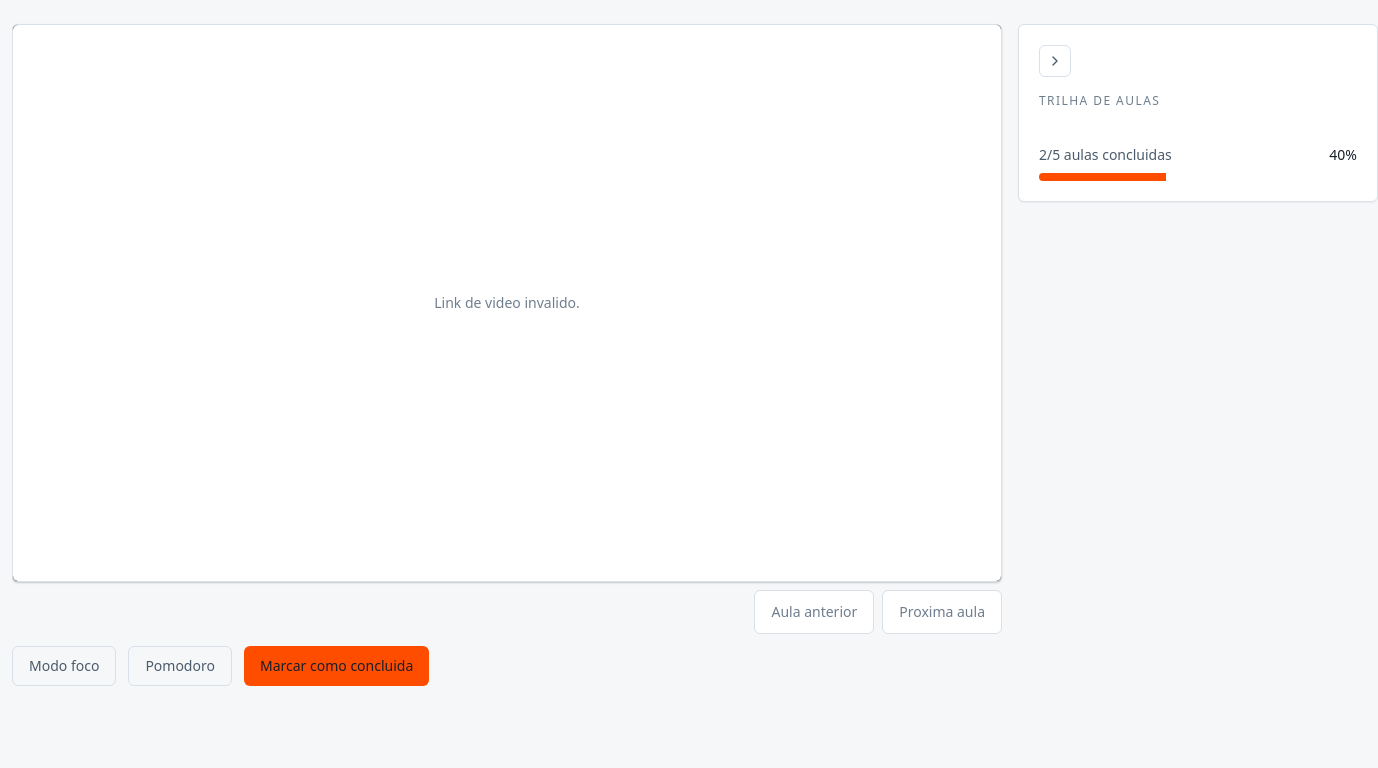
LessonCompletionPanel › marks the lesson as completed without navigating away and updates progress
The image size is (1378, 768).
Click the button "Marcar como concluida" at [337, 666], box [244,646,429,686]
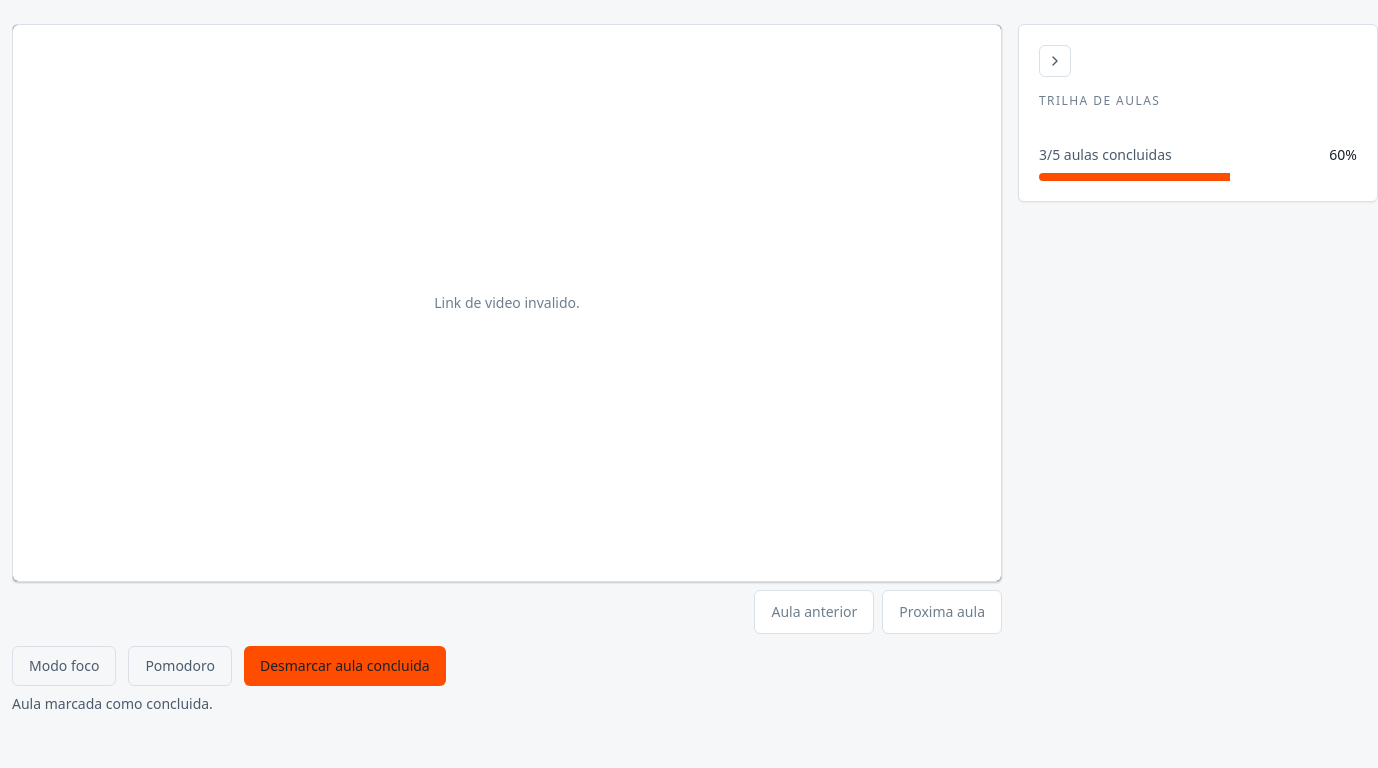
Check: the button "Desmarcar aula concluida" is shown, box [244,646,446,686]
